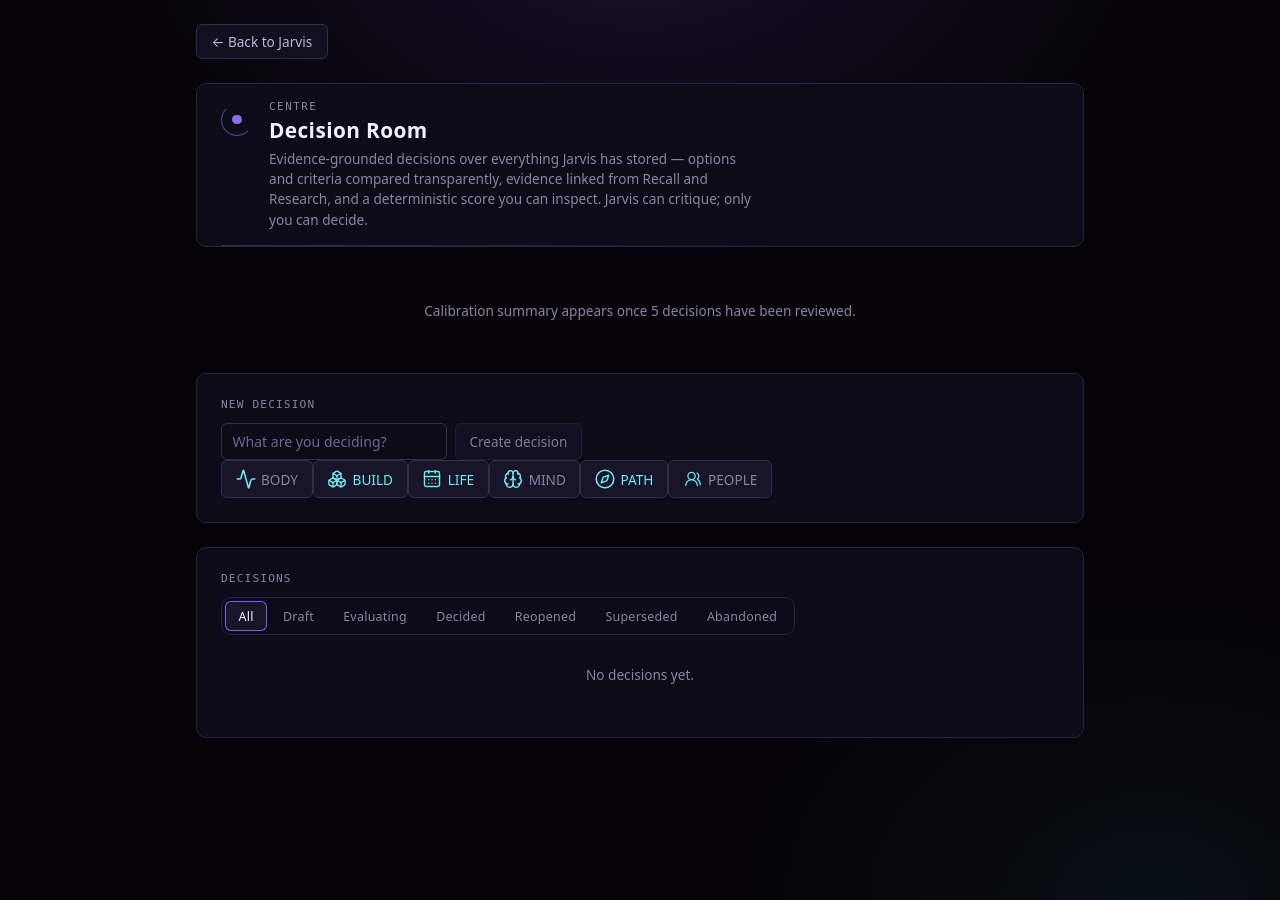
Test: DecisionCentre — decision list › creates a decision and opens its detail view
Type "Which tokenizer for Alpha?" into the field named "decision question".
click(334, 442); type("Which tokenizer for Alpha?")  # box [221,423,447,460]
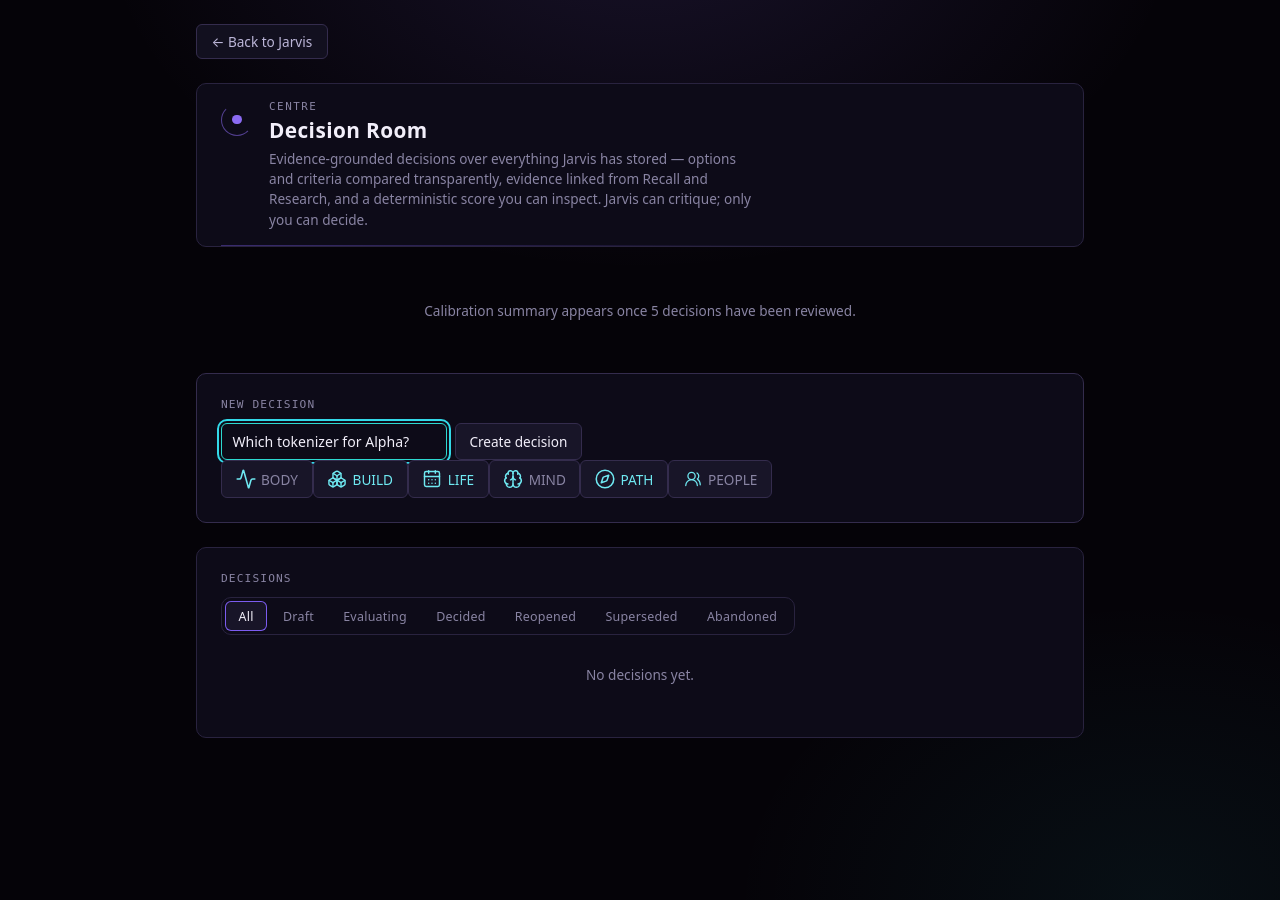
Click the button "Create decision".
click(518, 442)  # box [455,423,582,460]
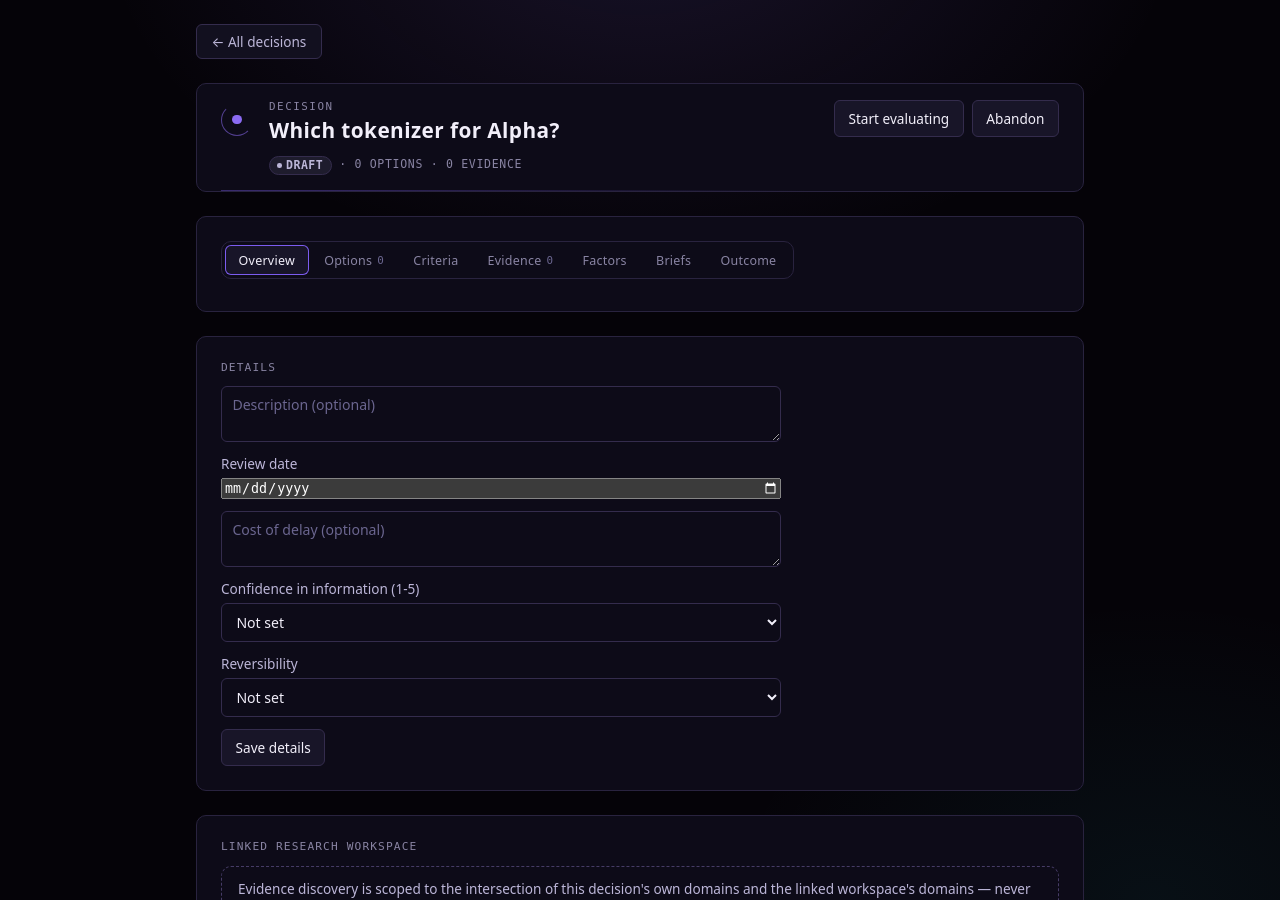
Result: the button "← All decisions" is shown at [196,24,322,59]
